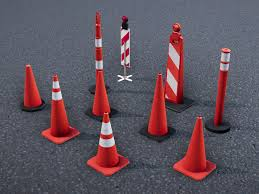cones: (88, 113, 130, 181), (175, 114, 216, 183), (41, 76, 79, 144), (140, 75, 175, 148), (85, 71, 120, 124), (17, 66, 44, 113)
